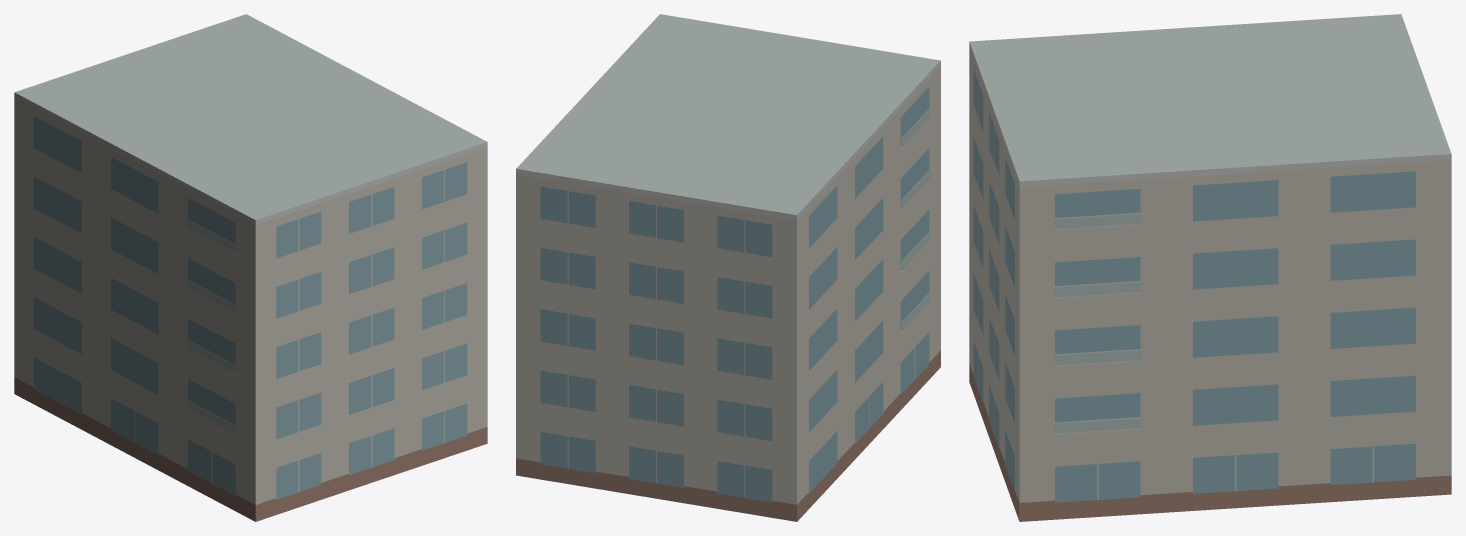
The model's file is survey-upis-32626571.glb.
3 views of the same model, side by side, from view 1: azimuth 30°, elevation 25°; view 2: azimuth 150°, elevation 25°; view 3: azimuth 270°, elevation 25° (orthographic). The views are drawn at different scales.
Visible parts, largest first — view 1: survey-upis-32626571.tmp; view 2: survey-upis-32626571.tmp; view 3: survey-upis-32626571.tmp.
Part boxes in pixels (left/top/right/bottom): survey-upis-32626571.tmp: left=14, top=14, right=487, bottom=521; survey-upis-32626571.tmp: left=516, top=14, right=940, bottom=521; survey-upis-32626571.tmp: left=969, top=14, right=1451, bottom=521.
Size of the model in its own units: 14.72 by 13.95 by 17.91.
